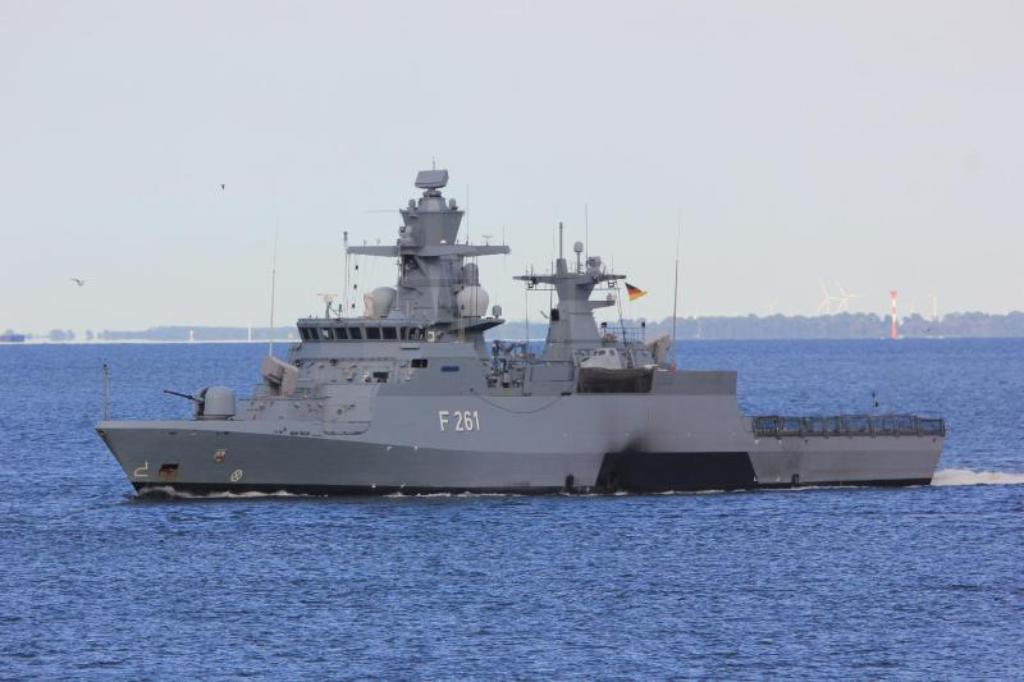Warship: (90, 157, 948, 495)
